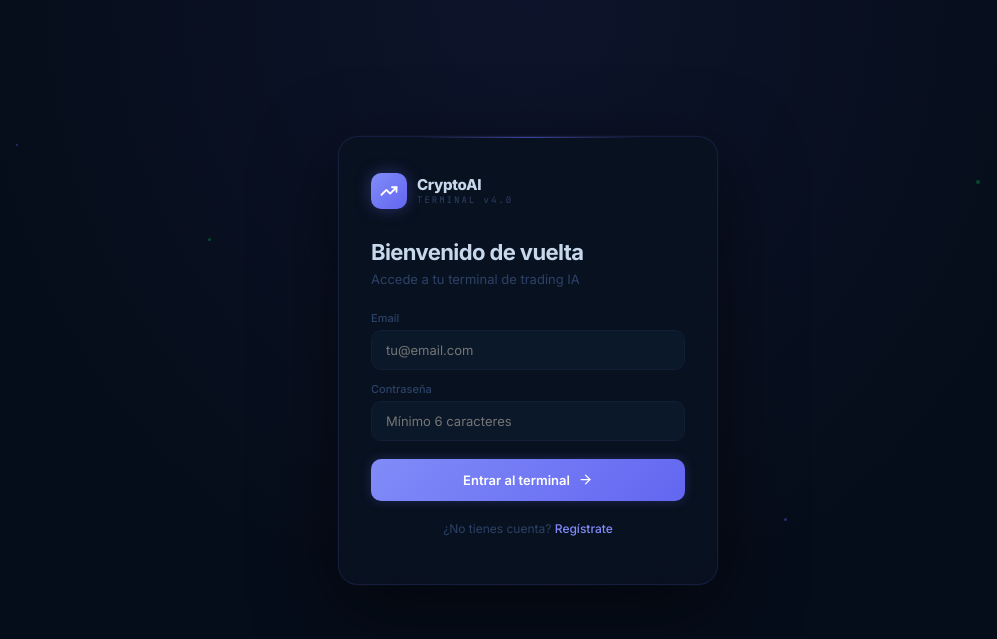
Test: Login › switches to register form on toggle click
The image size is (997, 639).
Click the text "Regístrate".
click(584, 528)  # box left=555, top=520, right=613, bottom=536
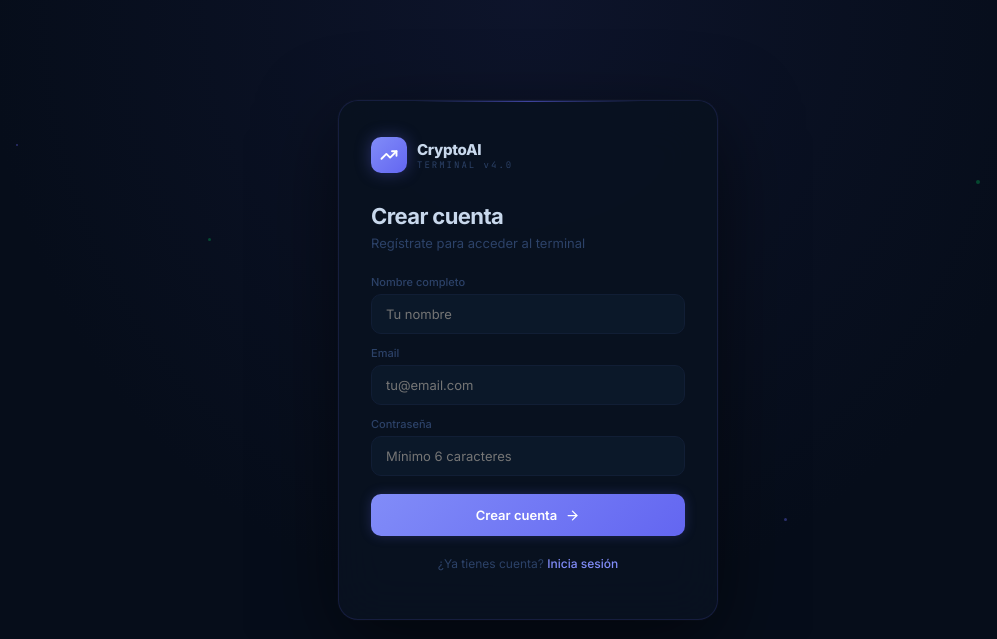
Result: the heading "Crear cuenta" is shown at left=371, top=203, right=503, bottom=229
